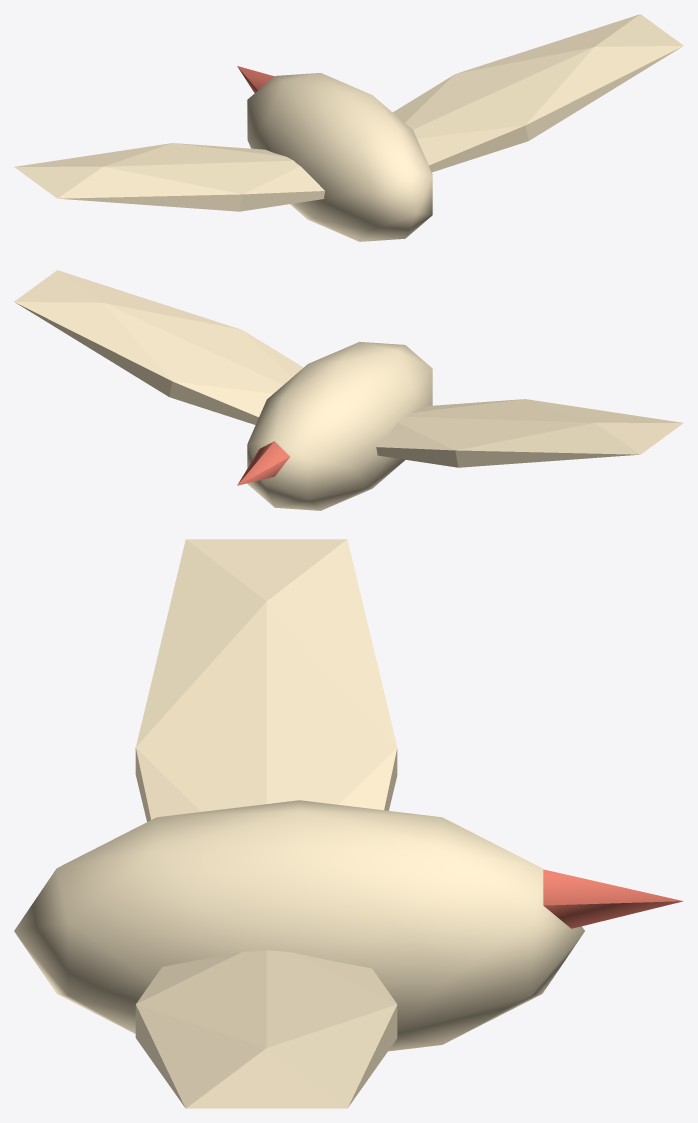
File: discovery-tern.glb
3 views of the same model, one above another, from view 1: azimuth 30°, elevation 25°; view 2: azimuth 150°, elevation 25°; view 3: azimuth 270°, elevation 25° (orthographic). The views are drawn at different scales.
Parts seen in each view (by area): view 1: tern-wing (×2), tern-body, tern-beak; view 2: tern-wing (×2), tern-body, tern-beak; view 3: tern-wing (×2), tern-body, tern-beak.
Boxes of the visible parts, bbox=[...] form: tern-wing (×2): bbox=[14, 14, 683, 211]; tern-body: bbox=[247, 73, 432, 241]; tern-beak: bbox=[237, 66, 273, 92]; tern-wing (×2): bbox=[14, 270, 683, 467]; tern-body: bbox=[247, 341, 432, 510]; tern-beak: bbox=[237, 441, 289, 485]; tern-wing (×2): bbox=[135, 539, 397, 1108]; tern-body: bbox=[14, 800, 584, 1051]; tern-beak: bbox=[543, 869, 683, 928].
Bounding box in the file's own units: 6.13 × 1.2 × 3.05.
